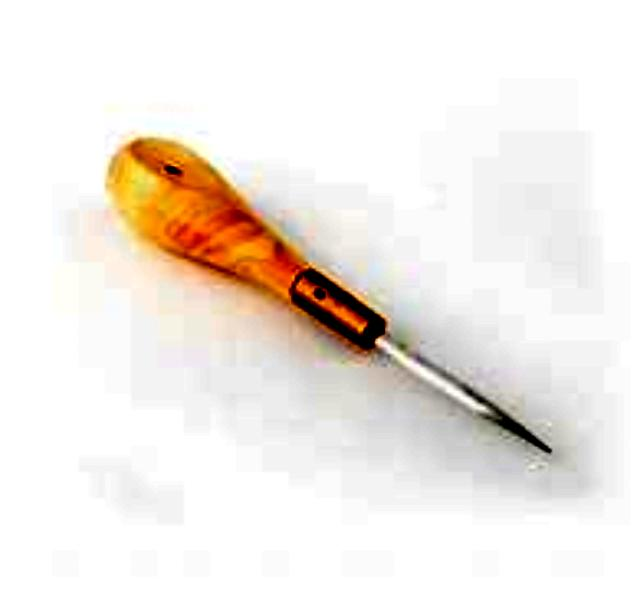ice pick: (106, 135, 554, 473)
